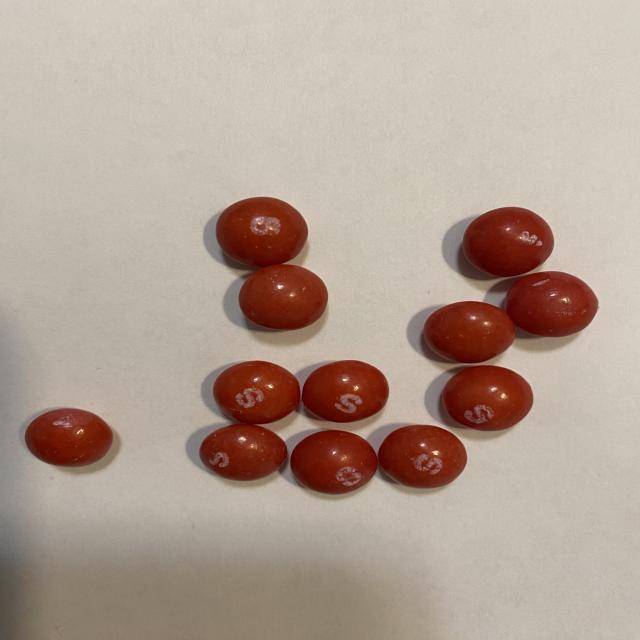smartie: (215, 196, 308, 267), (463, 207, 554, 277), (505, 271, 599, 337), (442, 366, 534, 431), (238, 264, 328, 330), (423, 301, 515, 363), (378, 425, 467, 489), (212, 361, 300, 425), (290, 431, 378, 495), (302, 360, 389, 423), (23, 409, 112, 467), (199, 424, 287, 481)
